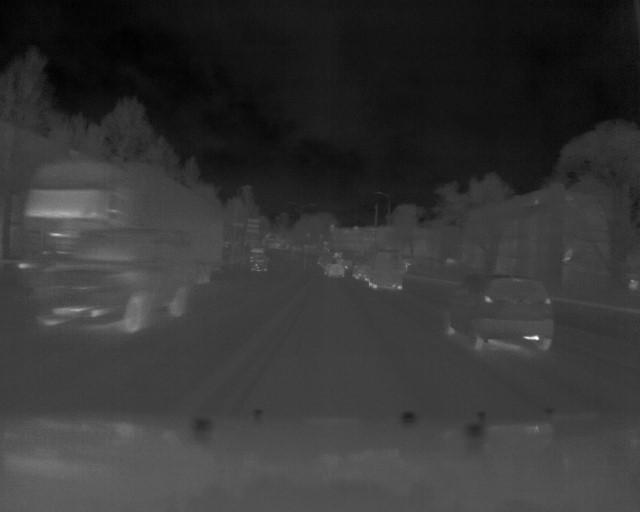car: (36, 232, 197, 337), (440, 272, 555, 355), (365, 256, 407, 294), (322, 261, 351, 281)
